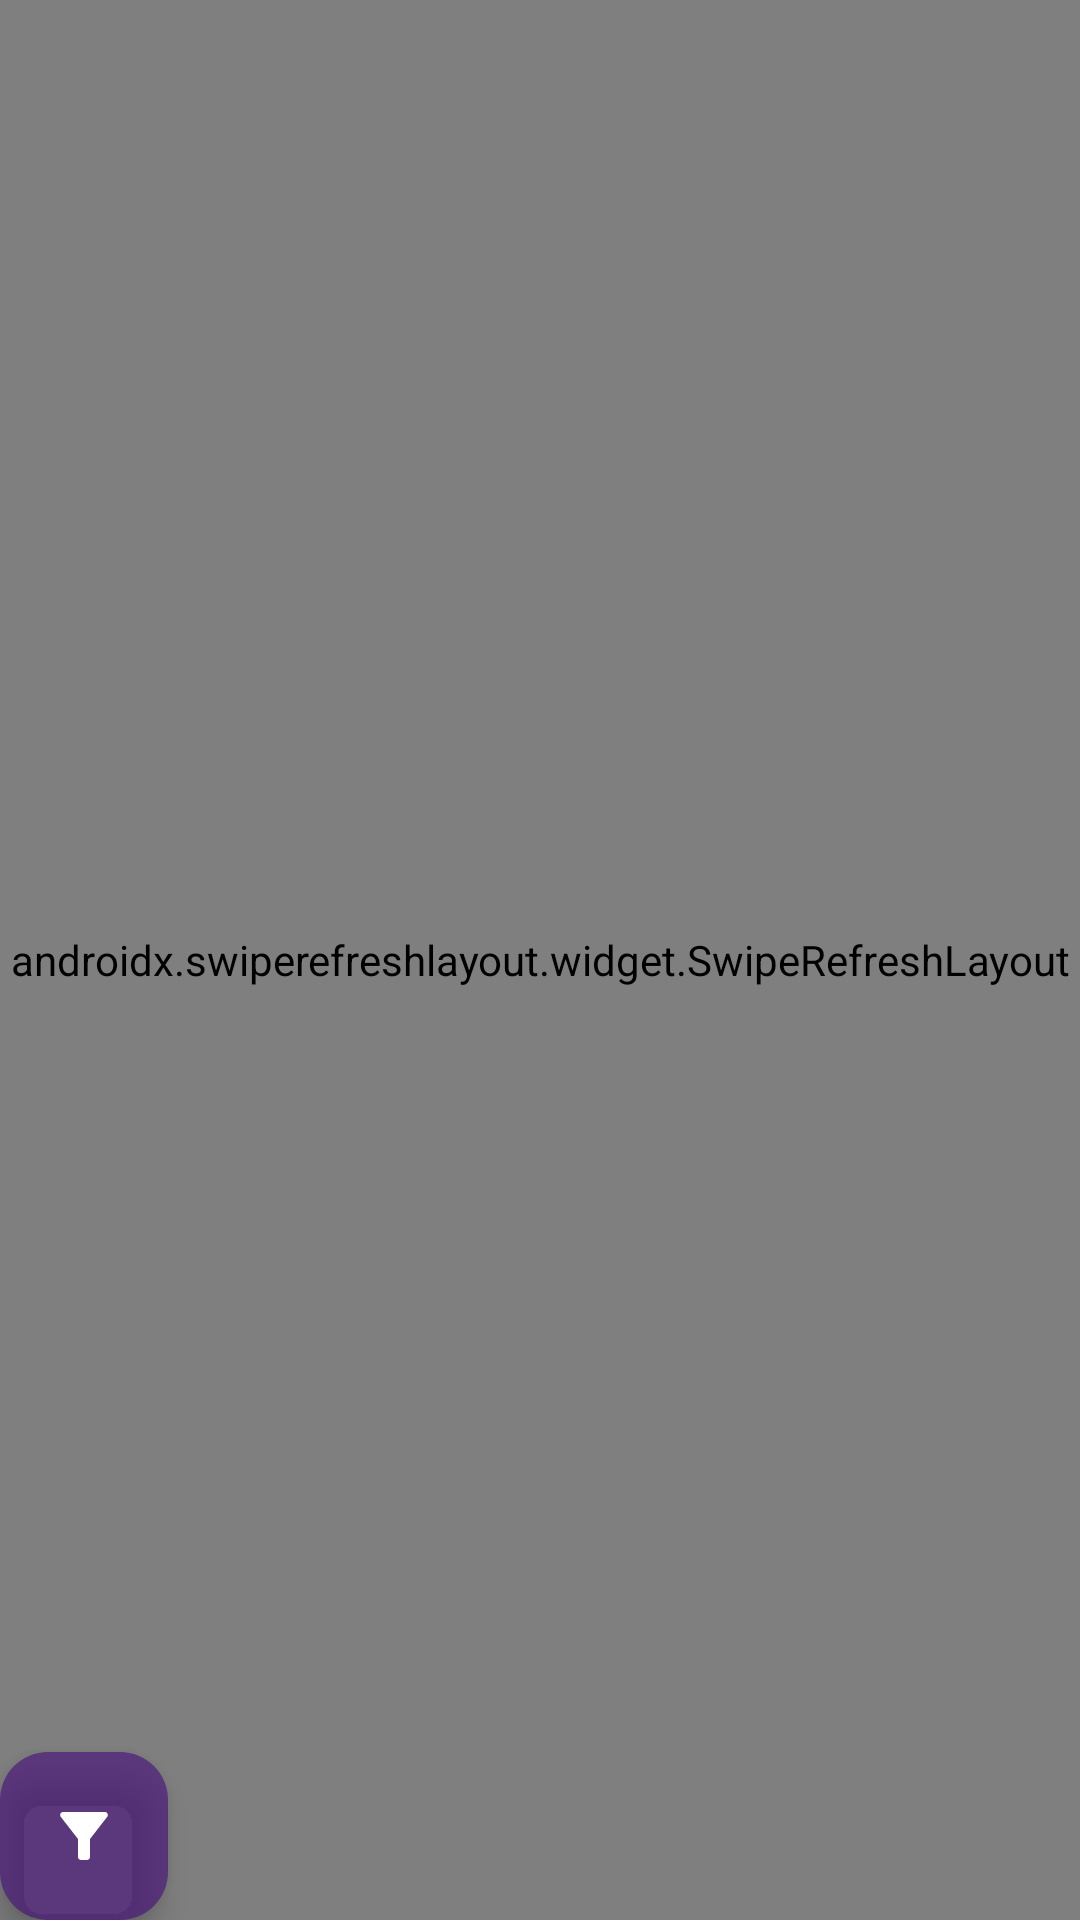

Where to tap for icons on this 1080w x 1920h app screen, as [x,y]:
filter: [84,1836]
